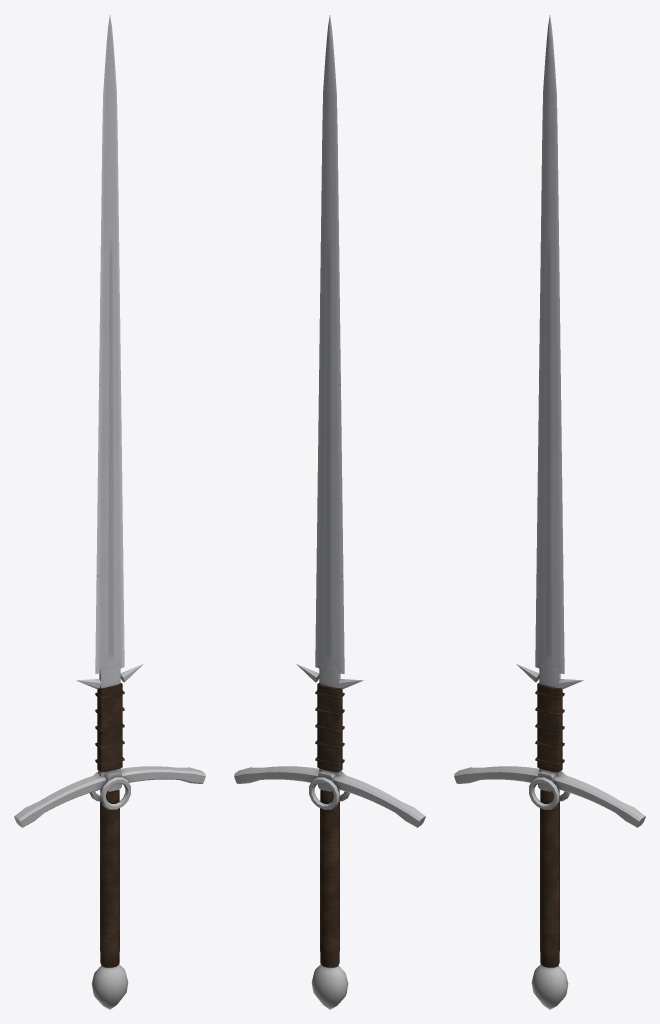
The model's file is zweihander.glb.
The picture shows the model from 3 angles, left to right: view 1: azimuth 30°, elevation 25°; view 2: azimuth 150°, elevation 25°; view 3: azimuth 330°, elevation 25°; orthographic projection.
Visible parts, largest first — view 1: SM_V_zweihander, SM_V_zweihander_Faste; view 2: SM_V_zweihander, SM_V_zweihander_Faste; view 3: SM_V_zweihander, SM_V_zweihander_Faste.
Boxes of the visible parts, bbox=[...] form: SM_V_zweihander: bbox=[95, 15, 124, 967]; SM_V_zweihander_Faste: bbox=[14, 664, 205, 1009]; SM_V_zweihander: bbox=[315, 15, 344, 967]; SM_V_zweihander_Faste: bbox=[234, 664, 425, 1009]; SM_V_zweihander: bbox=[535, 15, 564, 967]; SM_V_zweihander_Faste: bbox=[454, 664, 645, 1009].
Size of the model in its own units: 0.4693 by 2.39 by 0.0672.
1 material, 1 textured.
